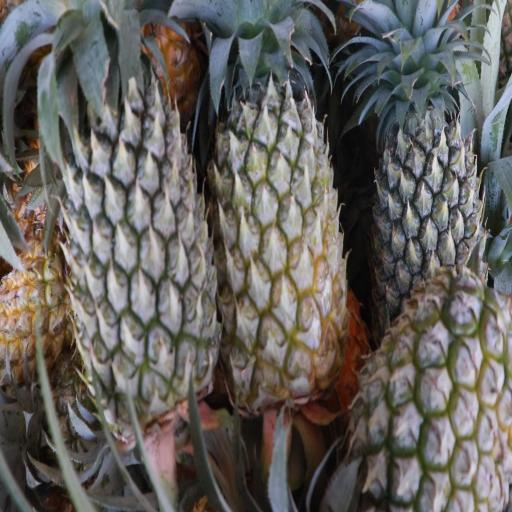------------------------------: (214, 36, 342, 403), (359, 277, 512, 512)
Pineapple - v8 v1: (0, 245, 71, 371)
